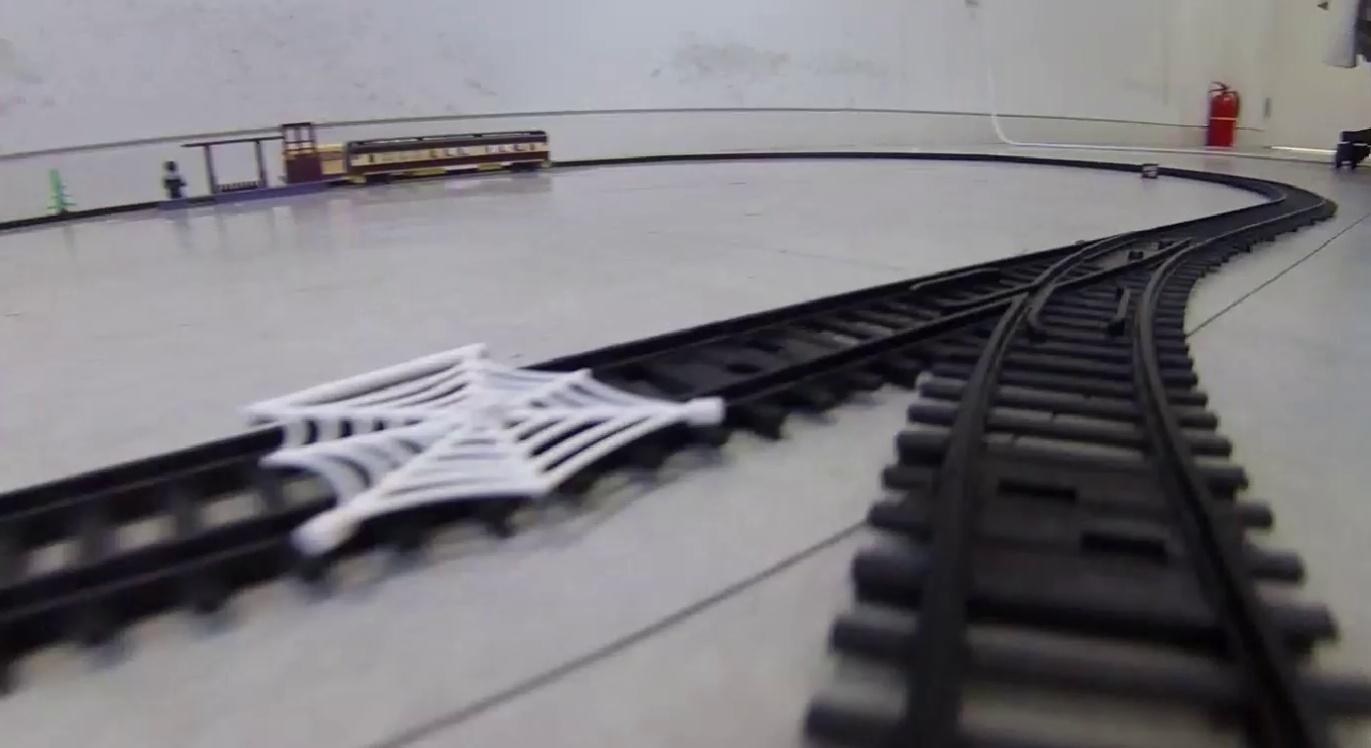web: (246, 342, 729, 555)
